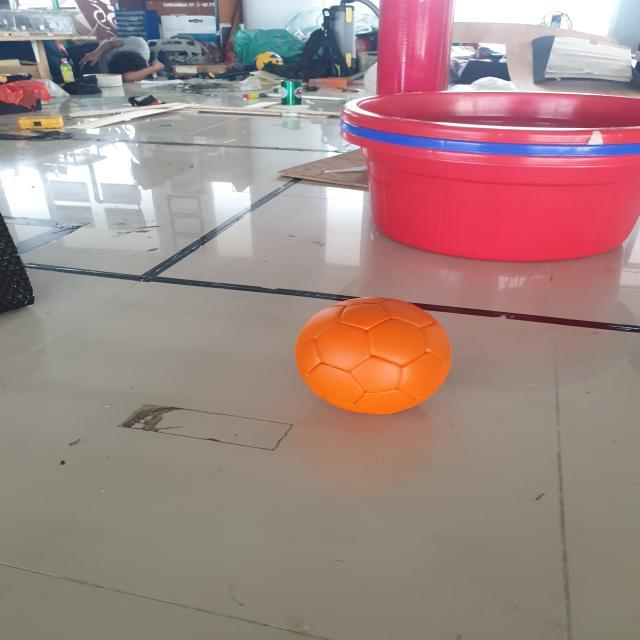bola: (286, 290, 460, 420)
